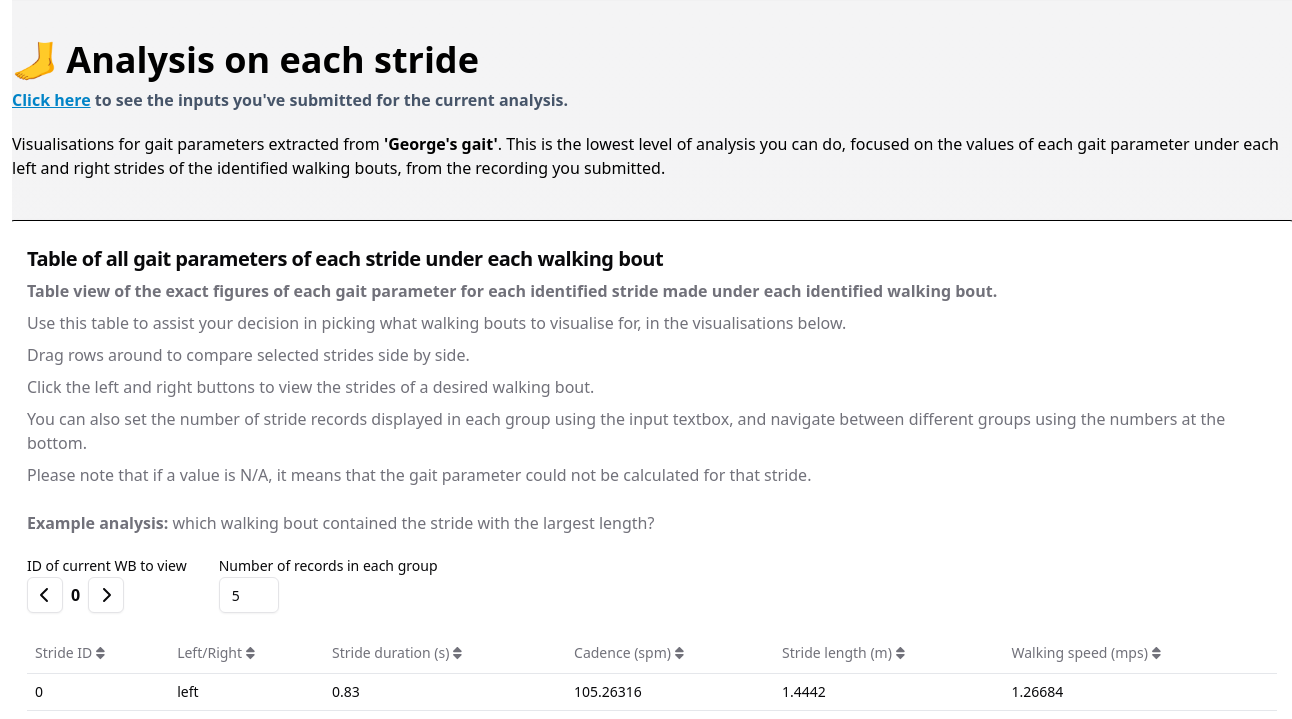
StrideAnalysis › transitions between walking bouts to focus on
Expected: the text with test id "current-wb-id" reads "0", x1=71 y1=584 x2=80 y2=606
Click the button with test id "btn-wb-id-next".
click(106, 595)  # box x1=88 y1=577 x2=124 y2=613
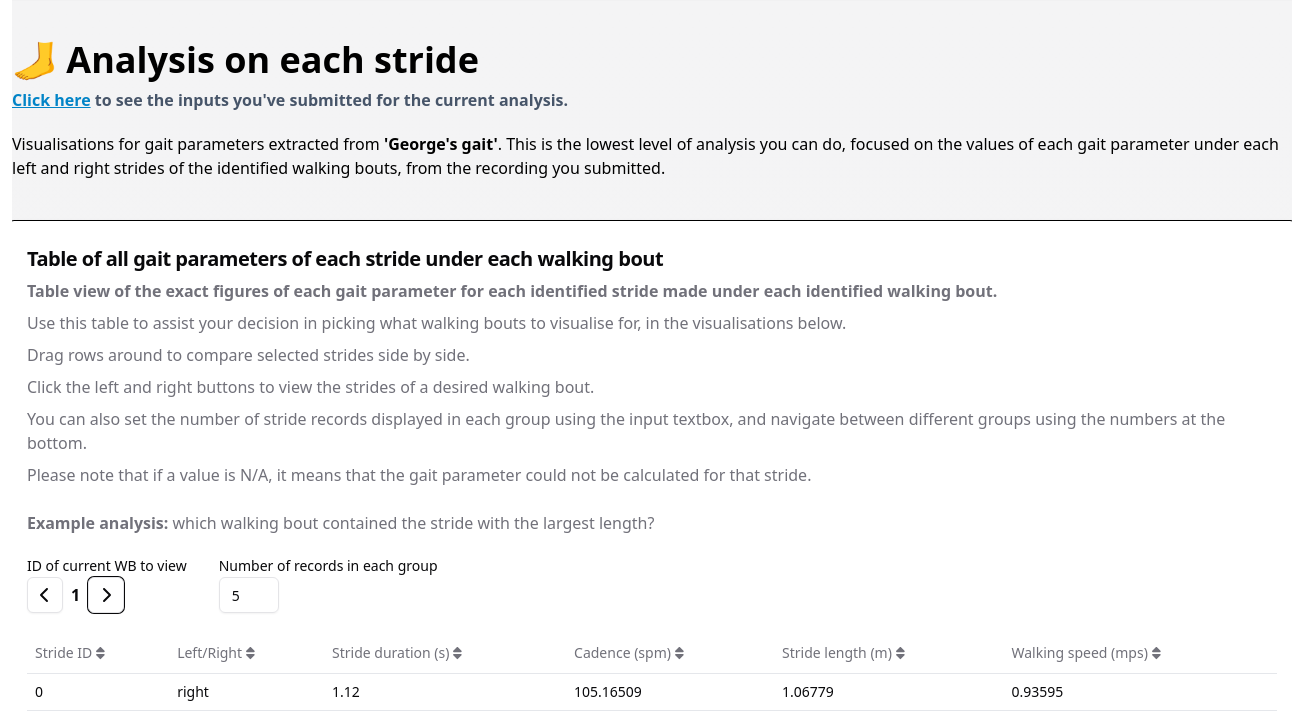
Now the text with test id "current-wb-id" reads "1", box x1=71 y1=584 x2=80 y2=606
Click the button with test id "btn-wb-id-previous".
click(45, 595)  # box x1=27 y1=577 x2=63 y2=613
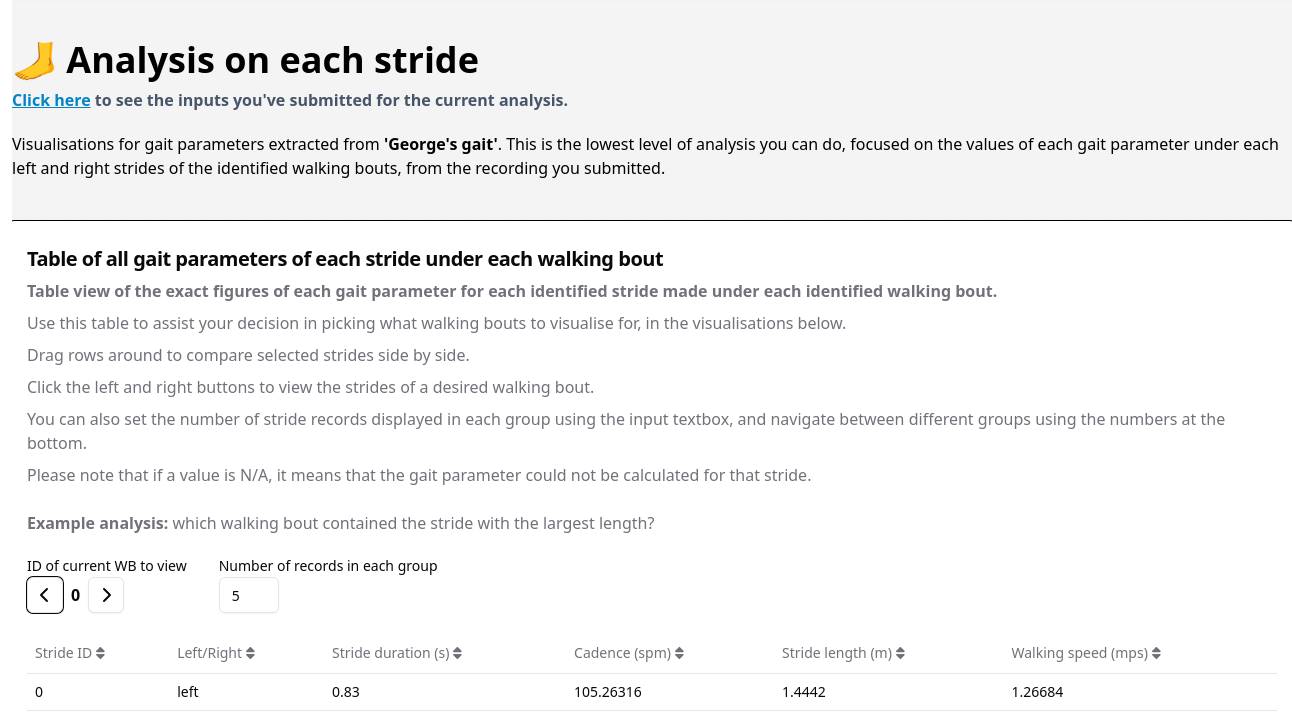
Now the text with test id "current-wb-id" reads "0", box x1=71 y1=584 x2=80 y2=606
